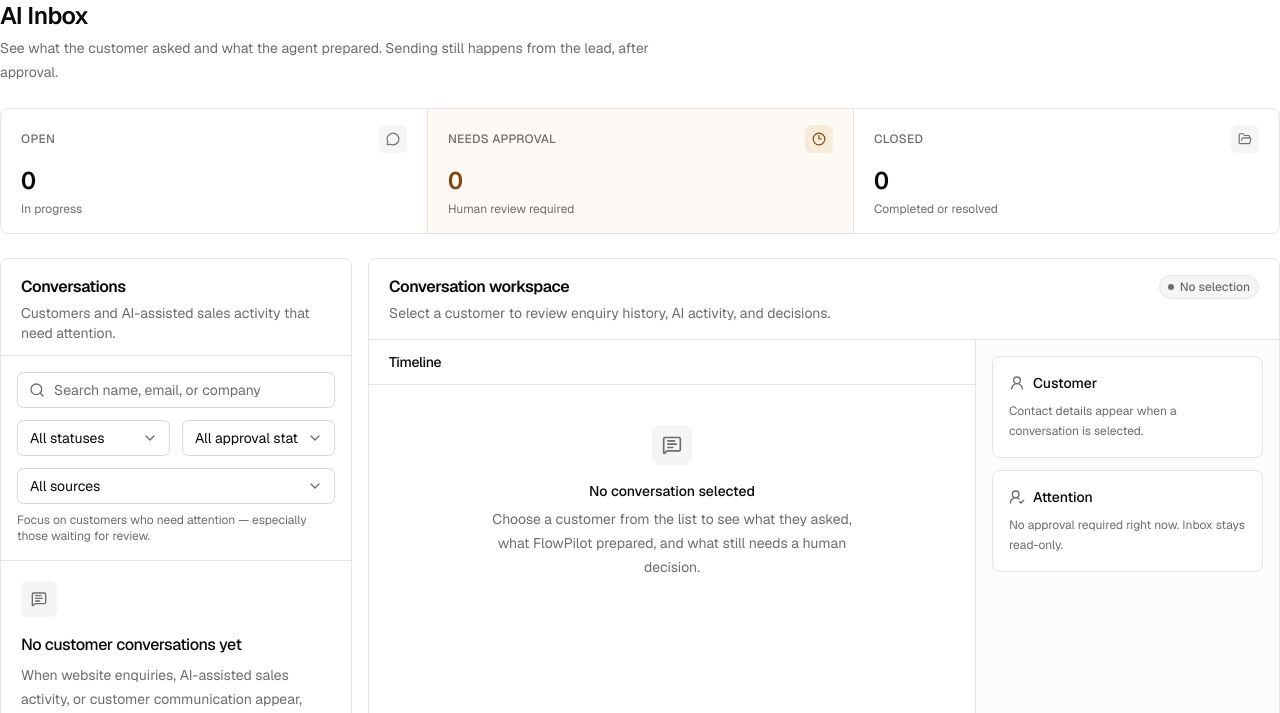
it: AI Inbox page › shows filtered empty state with clear action
Expected: the heading "No customer conversations yet" is shown, [21,633,242,657]
Type "zzz" into the search field named "Search conversations" at (176, 390), box [17,372,335,408]
Wait 350 ms
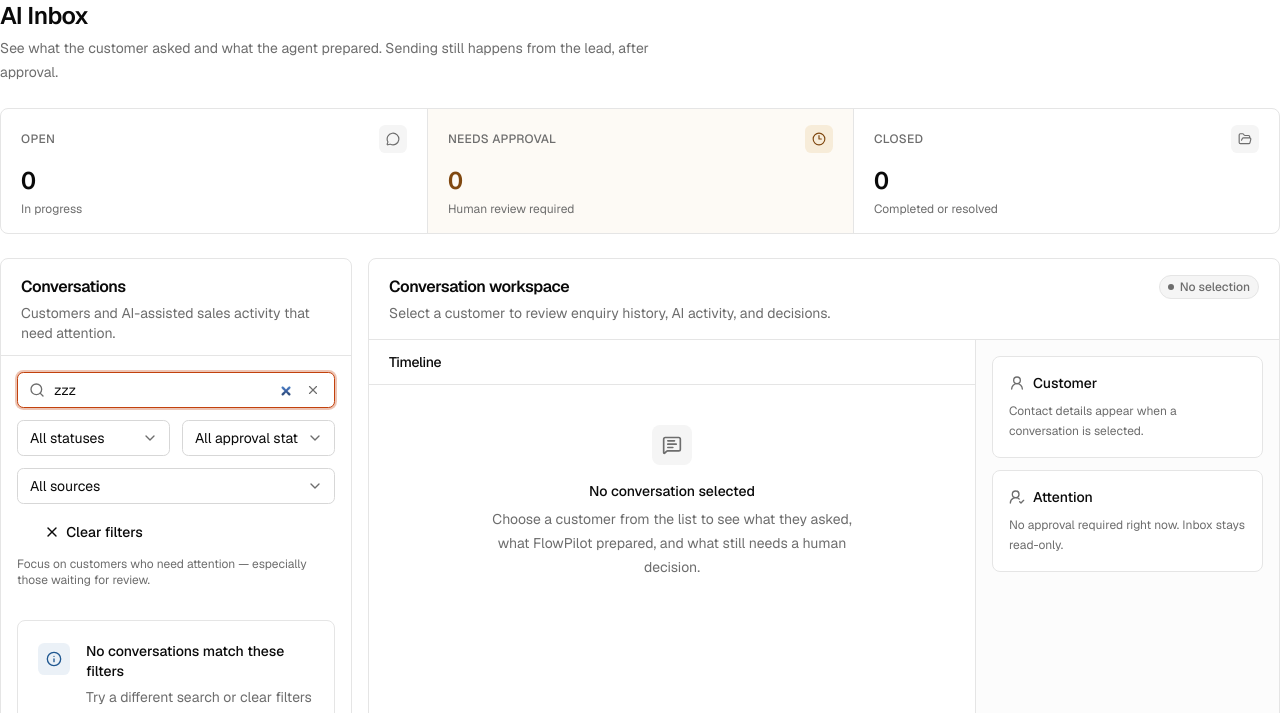
Result: the heading "No conversations match these filters" is shown at [86,641,314,681]
